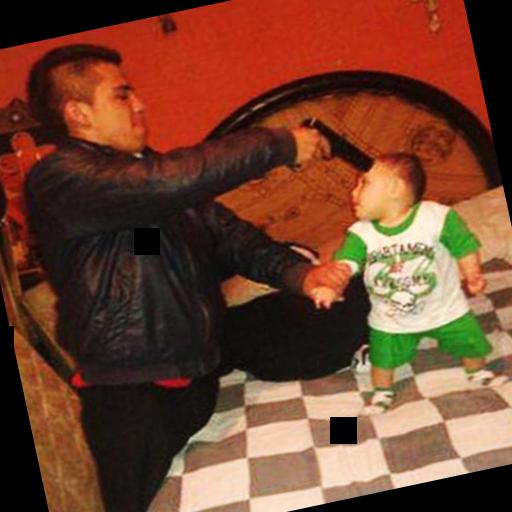Handgun: (271, 100, 376, 190)
